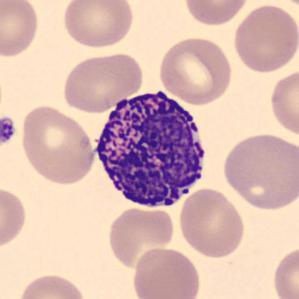Basophil: (87, 83, 214, 215)
Platelets: (0, 114, 17, 147)
RBC: (18, 102, 96, 187), (220, 130, 298, 212), (156, 34, 234, 106), (60, 50, 146, 114), (177, 186, 247, 260), (231, 2, 298, 74), (106, 204, 175, 270), (129, 245, 203, 299), (60, 0, 136, 50), (0, 0, 41, 59), (268, 66, 298, 138), (16, 271, 88, 299), (0, 184, 29, 251), (182, 0, 252, 27), (271, 244, 298, 299), (272, 0, 298, 9)
